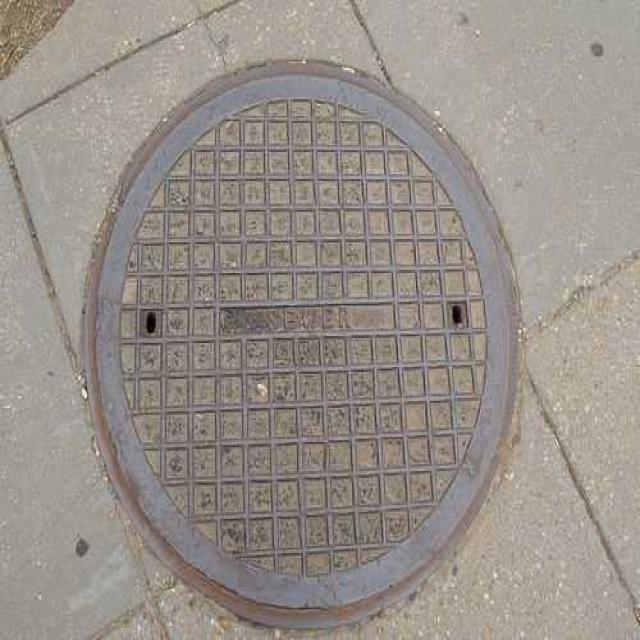manhole: (86, 65, 516, 627)
